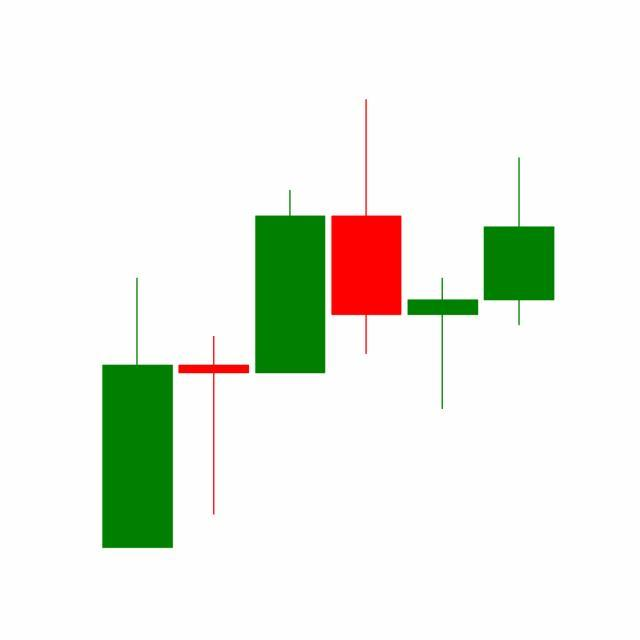Hammer: (404, 276, 482, 411)
